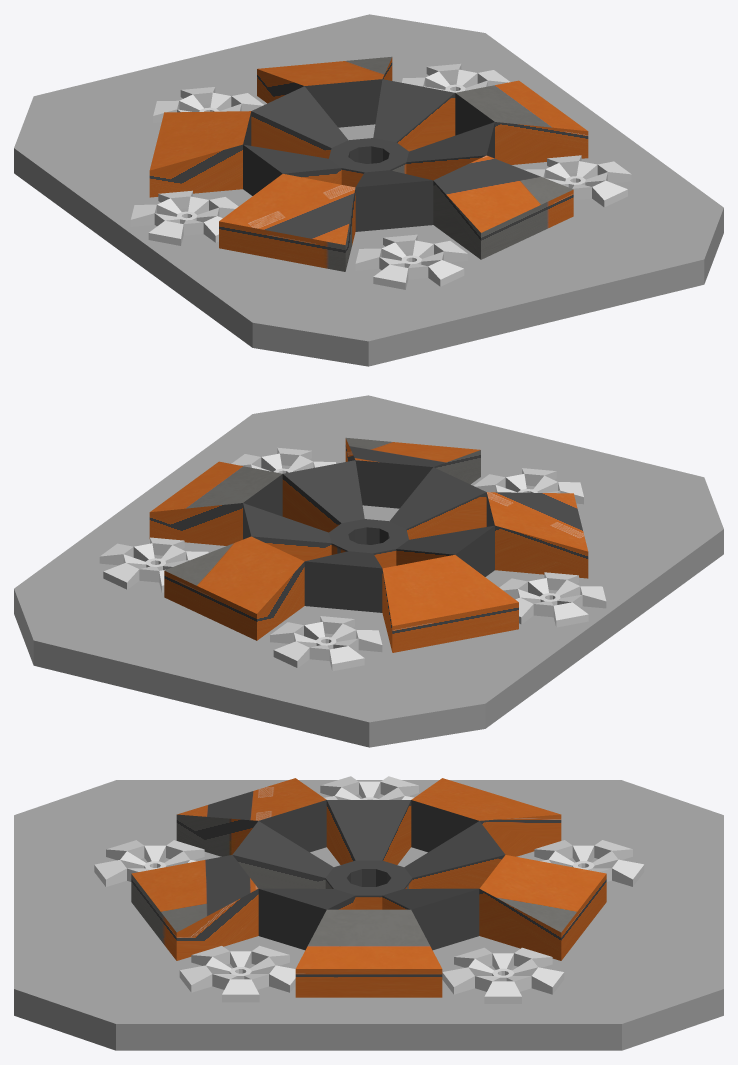
Rendered from money.fbx.
3 views of the same model, one above another, from view 1: azimuth 30°, elevation 25°; view 2: azimuth 150°, elevation 25°; view 3: azimuth 270°, elevation 25° (orthographic). The views are drawn at different scales.
Visible parts, largest first — view 1: Cylinder.001; view 2: Cylinder.001; view 3: Cylinder.001.
Part boxes in pixels (x1,y1,x2,y2): Cylinder.001: [14, 14, 723, 366]; Cylinder.001: [14, 395, 723, 747]; Cylinder.001: [14, 776, 723, 1050].
Bounding box in the file's own units: 0.6271 × 0.0888 × 0.7714.
Materials: 3 (1 with a texture image).
